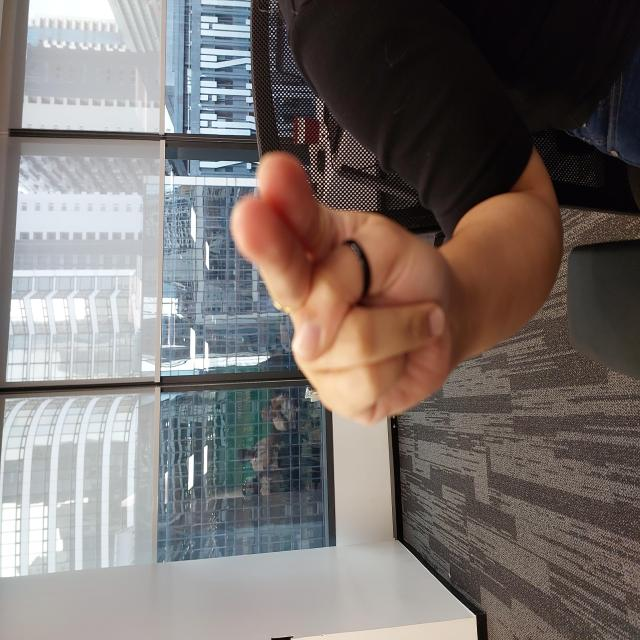N: (213, 228, 493, 467)
